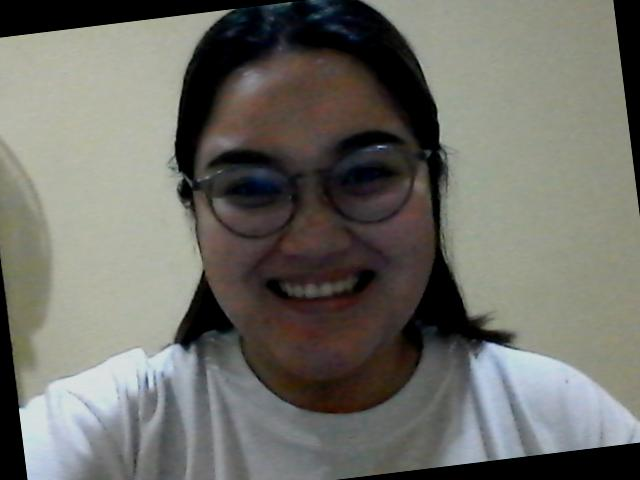senang: (178, 37, 460, 378)
